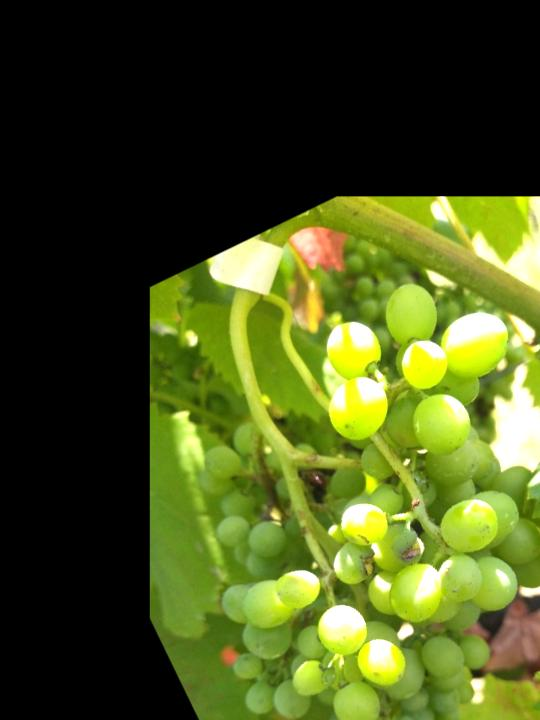grape: (108, 252, 540, 720)
